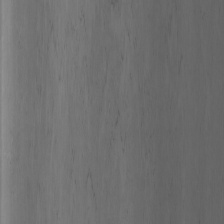silk_spot: (62, 5, 149, 199)
